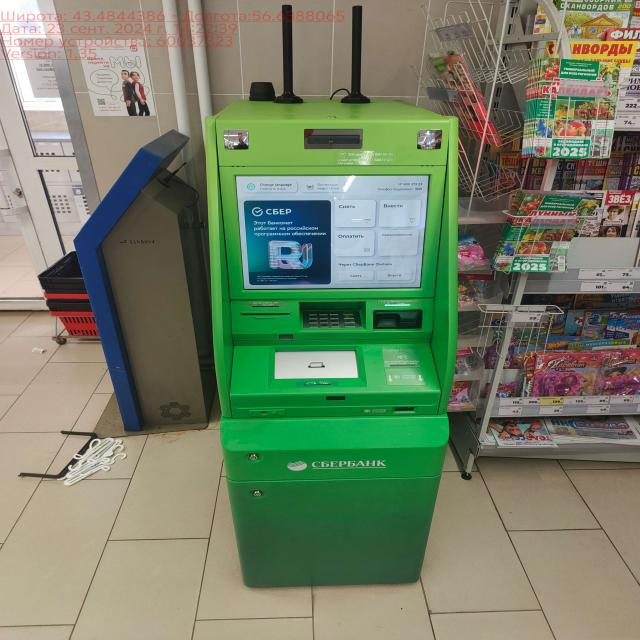bank: (209, 100, 460, 589)
